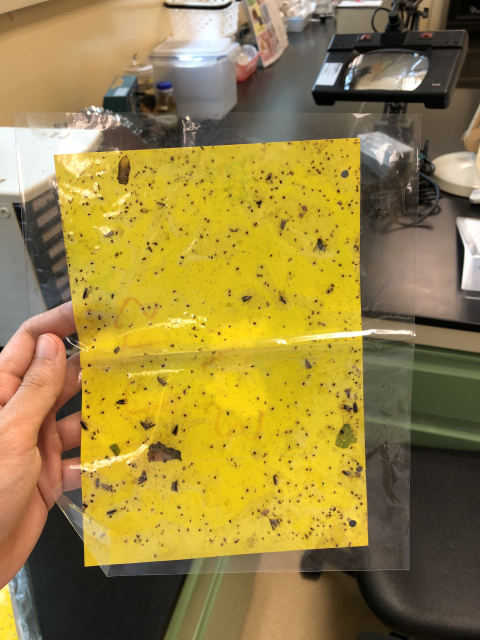DBM: (265, 512, 283, 532), (138, 418, 157, 432), (134, 469, 149, 485), (239, 291, 257, 304), (77, 419, 92, 433), (99, 481, 115, 493), (155, 375, 170, 387), (350, 400, 360, 416), (302, 357, 313, 370), (114, 398, 129, 407), (279, 218, 288, 231)
